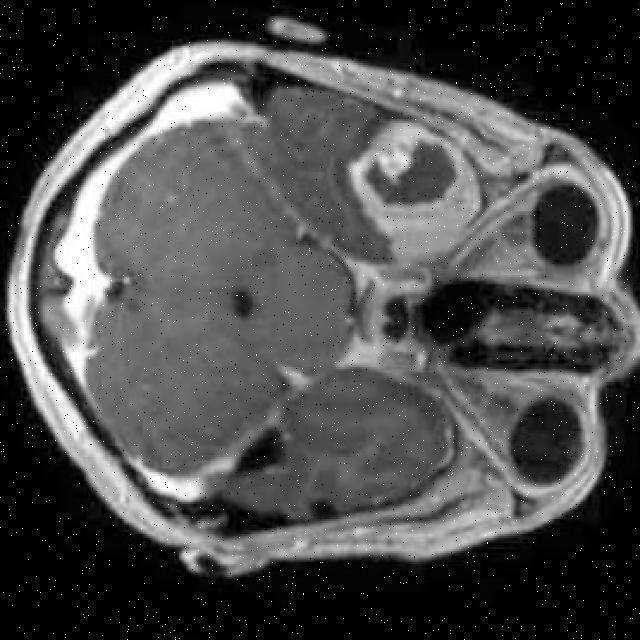Meningioma: (348, 121, 481, 257)
